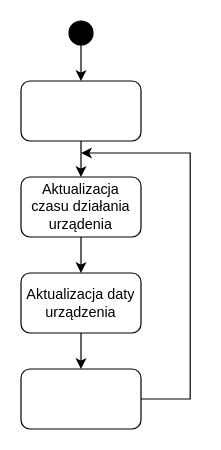
Some shapes in this 221 by 450 pixel diagram are drawn without their labels. The centre of each missing label's shape, as x and y in pixels:
"Inicjalizacja zasobów i modułów" goes at [80,110].
"Zapis danych na kartę SD" goes at [80,398].
